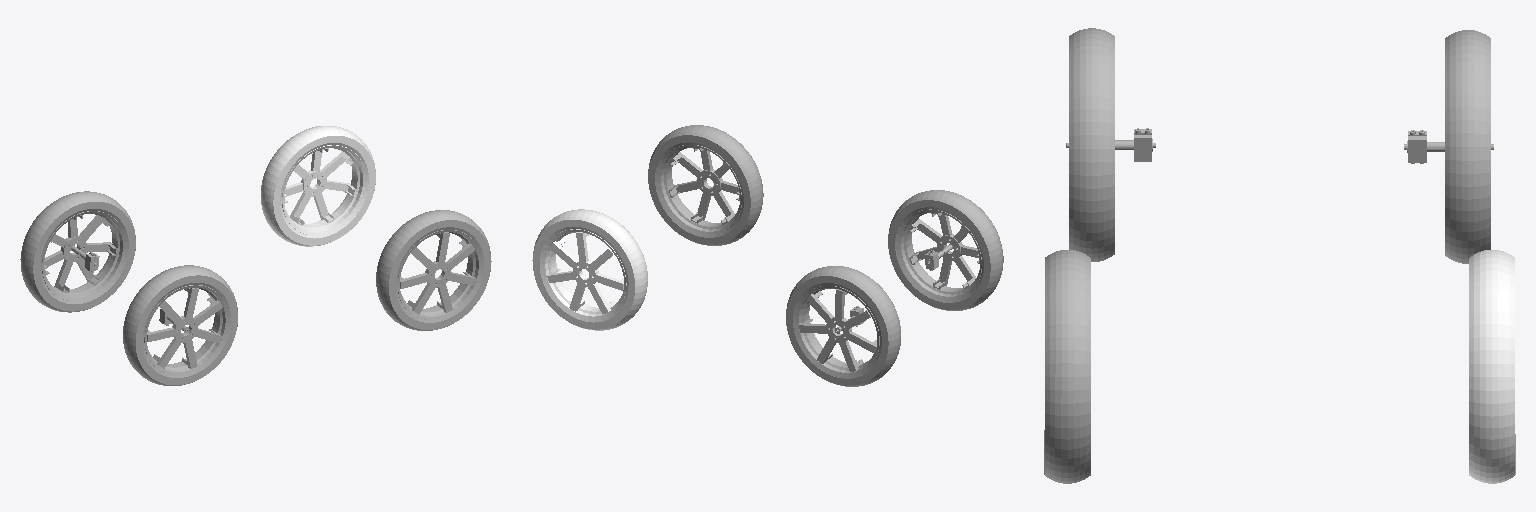
The robot description file, URDF, robot "vacop":
<?xml version="1.0" encoding="utf-8"?>
<!-- This URDF was automatically created by SolidWorks to URDF Exporter! Originally created by [author] ([email redacted]) 
     Commit Version: 1.6.0-4-g7f85cfe  Build Version: 1.6.7995.38578
     For more information, please see http://wiki.ros.org/sw_urdf_exporter -->
<robot
  name="vacop">
  <link
    name="base_link">
    <inertial>
      <origin
        xyz="0.1139 0.0010278 0.2257"
        rpy="0 0 0" />
      <mass
        value="832.23" />
      <inertia
        ixx="81.816"
        ixy="0.0022707"
        ixz="-6.4534"
        iyy="436.62"
        iyz="0.056579"
        izz="471.64" />
    </inertial>
    <visual>
      <origin
        xyz="0 0 0"
        rpy="0 0 0" />
      <geometry>
        <mesh
          filename="package://vacop/meshes/base_link.STL" />
      </geometry>
      <material
        name="">
        <color
          rgba="0.75294 0.75294 0.75294 1" />
      </material>
    </visual>
    <collision>
      <origin
        xyz="0 0 0"
        rpy="0 0 0" />
      <geometry>
        <mesh
          filename="package://vacop/meshes/base_link.STL" />
      </geometry>
    </collision>
  </link>

  <link
    name="base_footprint">
  </link>

  <joint
    name="base_joint"
    type="fixed">
    <origin
      xyz="0 0 0.1"
      rpy="0 0 0" />
    <parent
      link="base_footprint" />
    <child
      link="base_link" />
  </joint>

  <link
    name="roue_ar_d">
    <inertial>
      <origin
        xyz="-1.3859E-09 0.056621 2.1485E-09"
        rpy="0 0 0" />
      <mass
        value="3.7093" />
      <inertia
        ixx="0.063239"
        ixy="-1.7059E-10"
        ixz="-2.577E-06"
        iyy="0.11929"
        iyz="1.2985E-10"
        izz="0.063215" />
    </inertial>
    <visual>
      <origin
        xyz="0 0 0"
        rpy="0 0 0" />
      <geometry>
        <mesh
          filename="package://vacop/meshes/roue_ar_d.STL" />
      </geometry>
      <material
        name="">
        <color
          rgba="0.75294 0.75294 0.75294 1" />
      </material>
    </visual>
    <collision>
      <origin
        xyz="0 0 0"
        rpy="0 0 0" />
      <geometry>
        <mesh
          filename="package://vacop/meshes/roue_ar_d.STL" />
      </geometry>
    </collision>
  </link>
  <joint
    name="j_ar_d"
    type="continuous">
    <origin
      xyz="-0.64009 -0.4998 0.11495"
      rpy="0 0 0" />
    <parent
      link="base_link" />
    <child
      link="roue_ar_d" />
    <axis
      xyz="0 1 0" />
    <limit
      effort="10"
      velocity="2" />
    <dynamics
      damping="0.1"
      friction="0.1" />
  </joint>
  <link
    name="roue_ar_g">
    <inertial>
      <origin
        xyz="1.7943E-09 -0.056621 1.8193E-09"
        rpy="0 0 0" />
      <mass
        value="3.7093" />
      <inertia
        ixx="0.063239"
        ixy="-1.9357E-10"
        ixz="-2.5747E-06"
        iyy="0.11929"
        iyz="-9.2169E-11"
        izz="0.063215" />
    </inertial>
    <visual>
      <origin
        xyz="0 0 0"
        rpy="0 0 0" />
      <geometry>
        <mesh
          filename="package://vacop/meshes/roue_ar_g.STL" />
      </geometry>
      <material
        name="">
        <color
          rgba="0.75294 0.75294 0.75294 1" />
      </material>
    </visual>
    <collision>
      <origin
        xyz="0 0 0"
        rpy="0 0 0" />
      <geometry>
        <mesh
          filename="package://vacop/meshes/roue_ar_g.STL" />
      </geometry>
    </collision>
  </link>
  <joint
    name="j_ar_g"
    type="continuous">
    <origin
      xyz="-0.64055 0.50495 0.11044"
      rpy="0 0 0" />
    <parent
      link="base_link" />
    <child
      link="roue_ar_g" />
    <axis
      xyz="0 1 0" />
    <limit
      effort="10"
      velocity="2" />
    <dynamics
      damping="0.1"
      friction="0.1" />
  </joint>
  <link
    name="roue_av_d">
    <inertial>
      <origin
        xyz="-1.4921E-06 0.038716 -6.1044E-05"
        rpy="0 0 0" />
      <mass
        value="3.0485" />
      <inertia
        ixx="0.061634"
        ixy="-2.1121E-06"
        ixz="6.0041E-09"
        iyy="0.11657"
        iyz="-8.6617E-05"
        izz="0.061634" />
    </inertial>
    <visual>
      <origin
        xyz="0 0 0"
        rpy="0 0 0" />
      <geometry>
        <mesh
          filename="package://vacop/meshes/roue_av_d.STL" />
      </geometry>
      <material
        name="">
        <color
          rgba="0.75294 0.75294 0.75294 1" />
      </material>
    </visual>
    <collision>
      <origin
        xyz="0 0 0"
        rpy="0 0 0" />
      <geometry>
        <mesh
          filename="package://vacop/meshes/roue_av_d.STL" />
      </geometry>
    </collision>
  </link>
  <joint
    name="j_av_d"
    type="revolute">
    <origin
      xyz="0.6106 -0.5557 0.11499"
      rpy="0 0 0" />
    <parent
      link="base_link" />
    <child
      link="roue_av_d" />
    <axis
      xyz="0 0 1" />
    <limit
      lower="-0.392"
      upper="0.392"
      effort="10"
      velocity="2" />
    <dynamics
      damping="0.1"
      friction="0.1" />
  </joint>
  <link
    name="roue_av_g">
    <inertial>
      <origin
        xyz="0 0 0"
        rpy="0 0 0" />
      <mass
        value="0" />
      <inertia
        ixx="0"
        ixy="0"
        ixz="0"
        iyy="0"
        iyz="0"
        izz="0" />
    </inertial>
    <visual>
      <origin
        xyz="0 0 0"
        rpy="0 0 0" />
      <geometry>
        <mesh
          filename="package://vacop/meshes/roue_av_g.STL" />
      </geometry>
      <material
        name="">
        <color
          rgba="1 1 1 1" />
      </material>
    </visual>
    <collision>
      <origin
        xyz="0 0 0"
        rpy="0 0 0" />
      <geometry>
        <mesh
          filename="package://vacop/meshes/roue_av_g.STL" />
      </geometry>
    </collision>
  </link>
  <joint
    name="j_av_g"
    type="revolute">
    <origin
      xyz="0.6106 0.5557 0.11499"
      rpy="0 0 0" />
    <parent
      link="base_link" />
    <child
      link="roue_av_g" />
    <axis
      xyz="0 0 1" />
    <limit
      lower="-0.392"
      upper="0.392"
      effort="10"
      velocity="2" />
    <dynamics
      damping="0.1"
      friction="0.1" />
  </joint>

</robot>

--- Render facts (derived) ---
Views: 3 orthographic renders of the robot side by side, from view 1: azimuth 30°, elevation 25°; view 2: azimuth 150°, elevation 25°; view 3: azimuth 270°, elevation 25°.
Model vacop with 6 links and 5 joints (2 revolute, 2 continuous, 1 fixed), rooted at base_footprint, posed all joints at 0.
Visible links, largest first — view 1: roue_ar_g, roue_ar_d, roue_av_g, roue_av_d; view 2: roue_ar_d, roue_ar_g, roue_av_d, roue_av_g; view 3: roue_ar_d, roue_ar_g, roue_av_d, roue_av_g.
Boxes of the visible links, x1,y1,x2,y2 form: roue_ar_g: (20,191,135,312); roue_ar_d: (123,265,237,385); roue_av_g: (261,126,375,246); roue_av_d: (376,210,491,330); roue_ar_d: (888,190,1003,310); roue_ar_g: (786,266,900,386); roue_av_d: (648,125,763,245); roue_av_g: (532,209,647,330); roue_ar_d: (1066,28,1155,261); roue_ar_g: (1404,30,1493,263); roue_av_d: (1044,250,1090,483); roue_av_g: (1469,250,1515,483).
Bounding box of the posed robot: 1.81 × 1.12 × 0.5644 m (x, y, z).
4 mesh visuals loaded from 5 distinct referenced files (4 binary STL); not drawn: 1 (reference not matched to a file when rendering).
